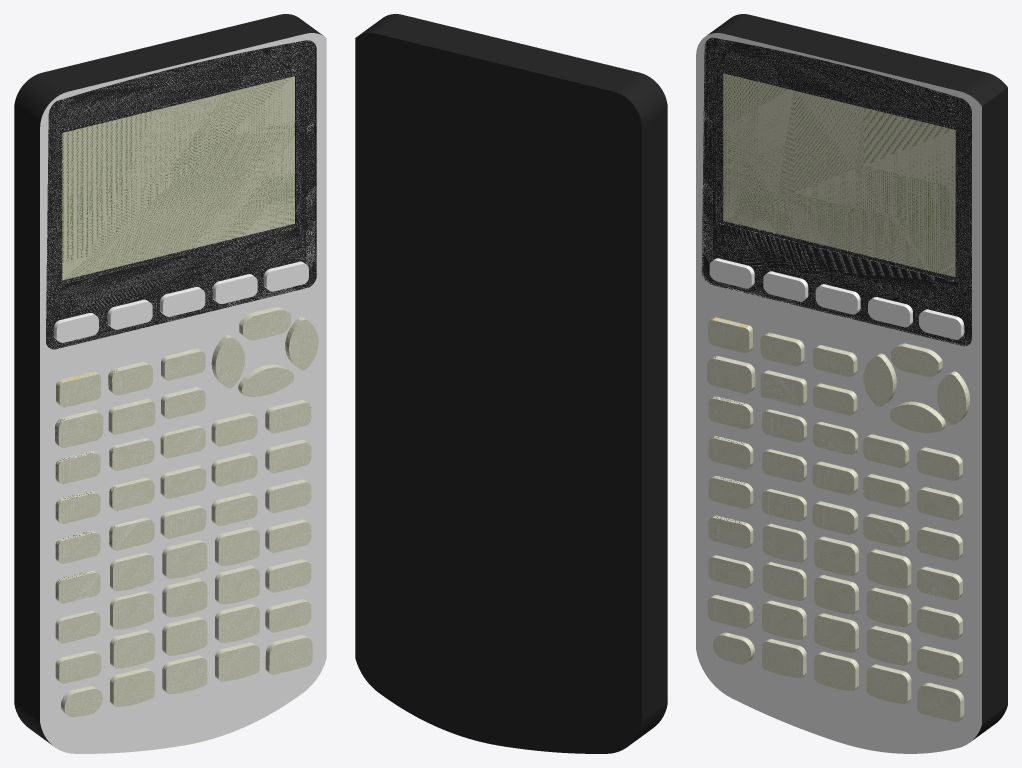
3 views of the same model, side by side, from view 1: azimuth 30°, elevation 25°; view 2: azimuth 150°, elevation 25°; view 3: azimuth 330°, elevation 25° (orthographic).
Visible parts, largest first — view 1: ti calculator the sketchup version; view 2: ti calculator the sketchup version; view 3: ti calculator the sketchup version.
Boxes of the visible parts, left/top/right/bottom form: ti calculator the sketchup version: left=14, top=14, right=326, bottom=753; ti calculator the sketchup version: left=355, top=14, right=667, bottom=753; ti calculator the sketchup version: left=696, top=14, right=1007, bottom=753.
Bounding box in the file's own units: 54.62 × 124 × 9.81.
